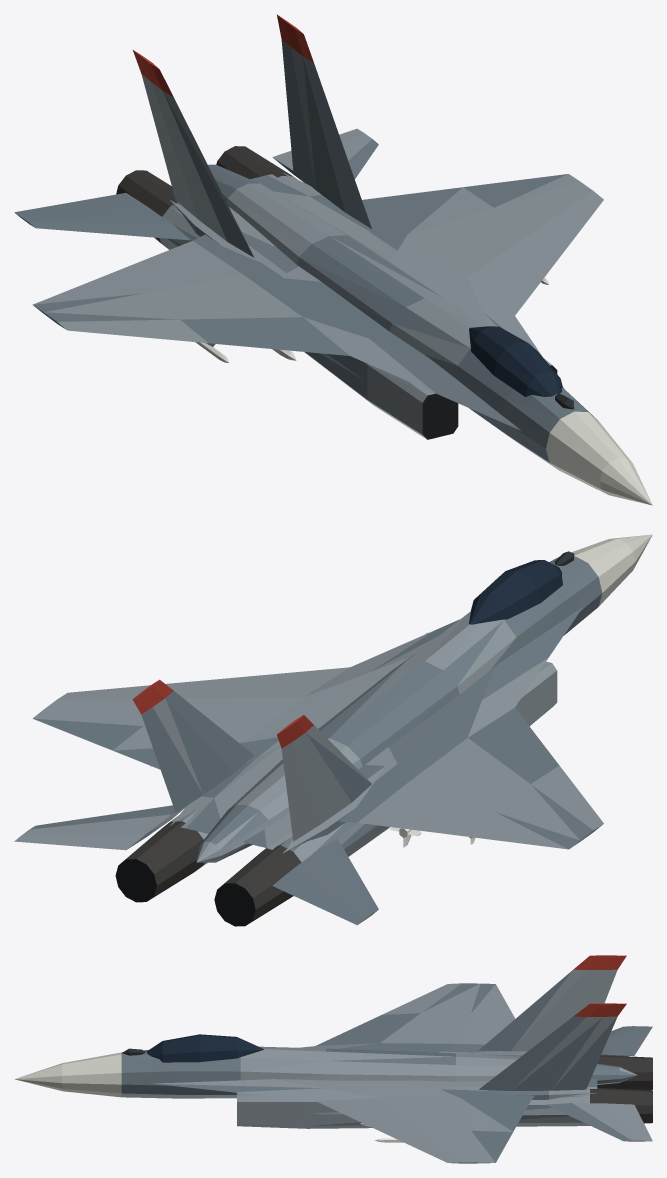
3 views of the same model, one above another, from view 1: azimuth 30°, elevation 25°; view 2: azimuth 150°, elevation 25°; view 3: azimuth 270°, elevation 25° (orthographic). The views are drawn at different scales.
Visible parts, largest first — view 1: vk33; view 2: vk33; view 3: vk33.
Boxes of the visible parts, x1,y1,x2,y2 form: vk33: [14, 14, 652, 505]; vk33: [14, 534, 652, 926]; vk33: [14, 955, 652, 1163].
Size of the model in its own units: 11.4 by 3.84 by 17.2.
